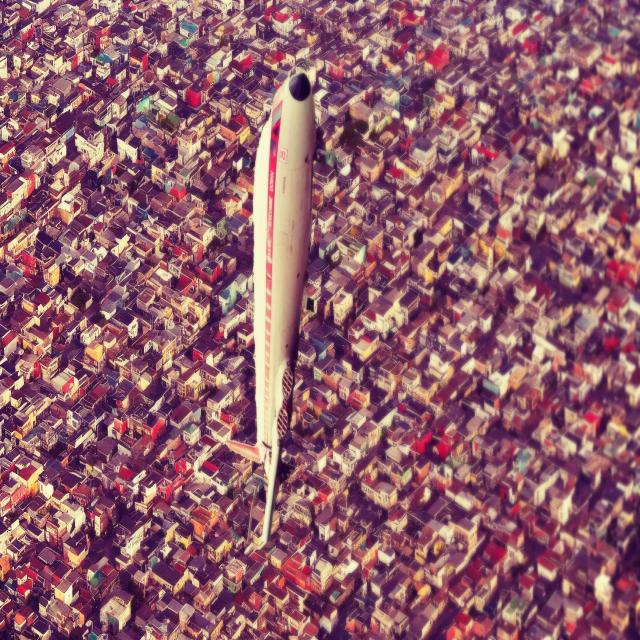airplane: (222, 64, 319, 549)
